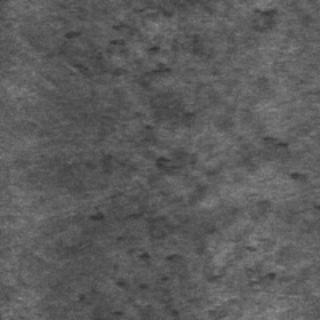rolled pit: (84, 200, 198, 318), (99, 17, 171, 122)
